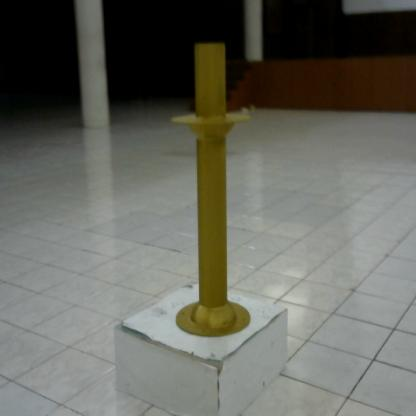pole: (170, 35, 254, 347)
